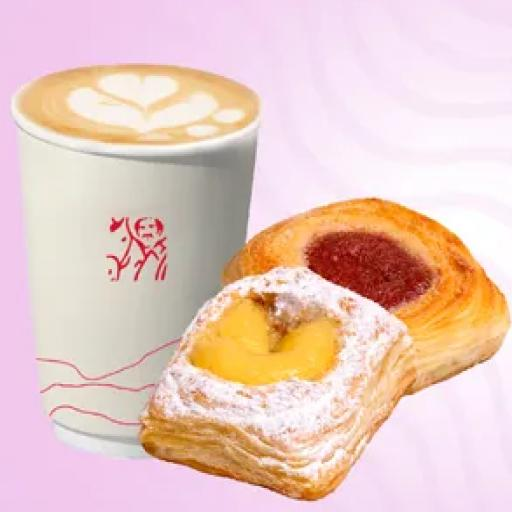bolleria: (140, 268, 415, 499), (224, 199, 510, 393)
